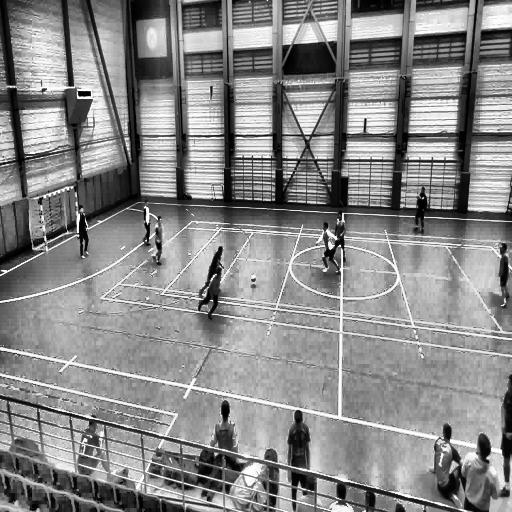ball: (250, 272, 258, 286)
player: (287, 408, 312, 510), (315, 221, 342, 280), (198, 245, 225, 297), (198, 265, 224, 318), (497, 242, 510, 309), (332, 208, 346, 266), (413, 188, 426, 232), (78, 206, 89, 258), (153, 215, 163, 265), (142, 200, 152, 246)
